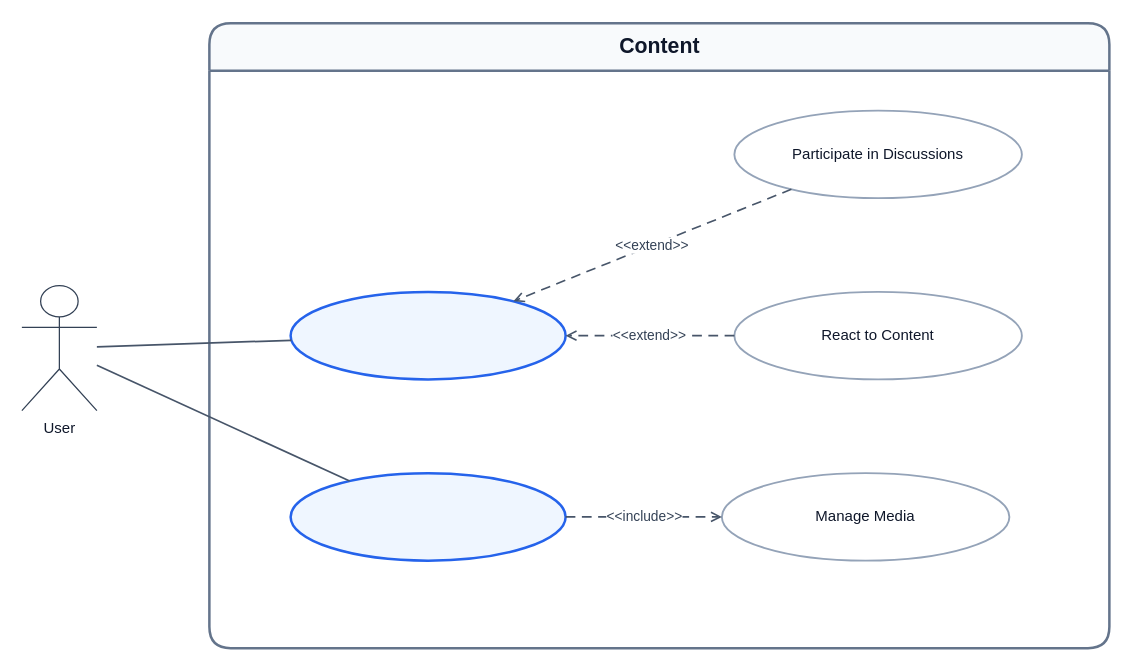
Some shapes in this 1133 by 670 pixel diagram are drawn without their labels. Here are the shapes that lost their labels. From the top down, the box of each, then its label:
(289, 290, 566, 380): Consume Feed & Content
(289, 471, 566, 561): Manage Posts
